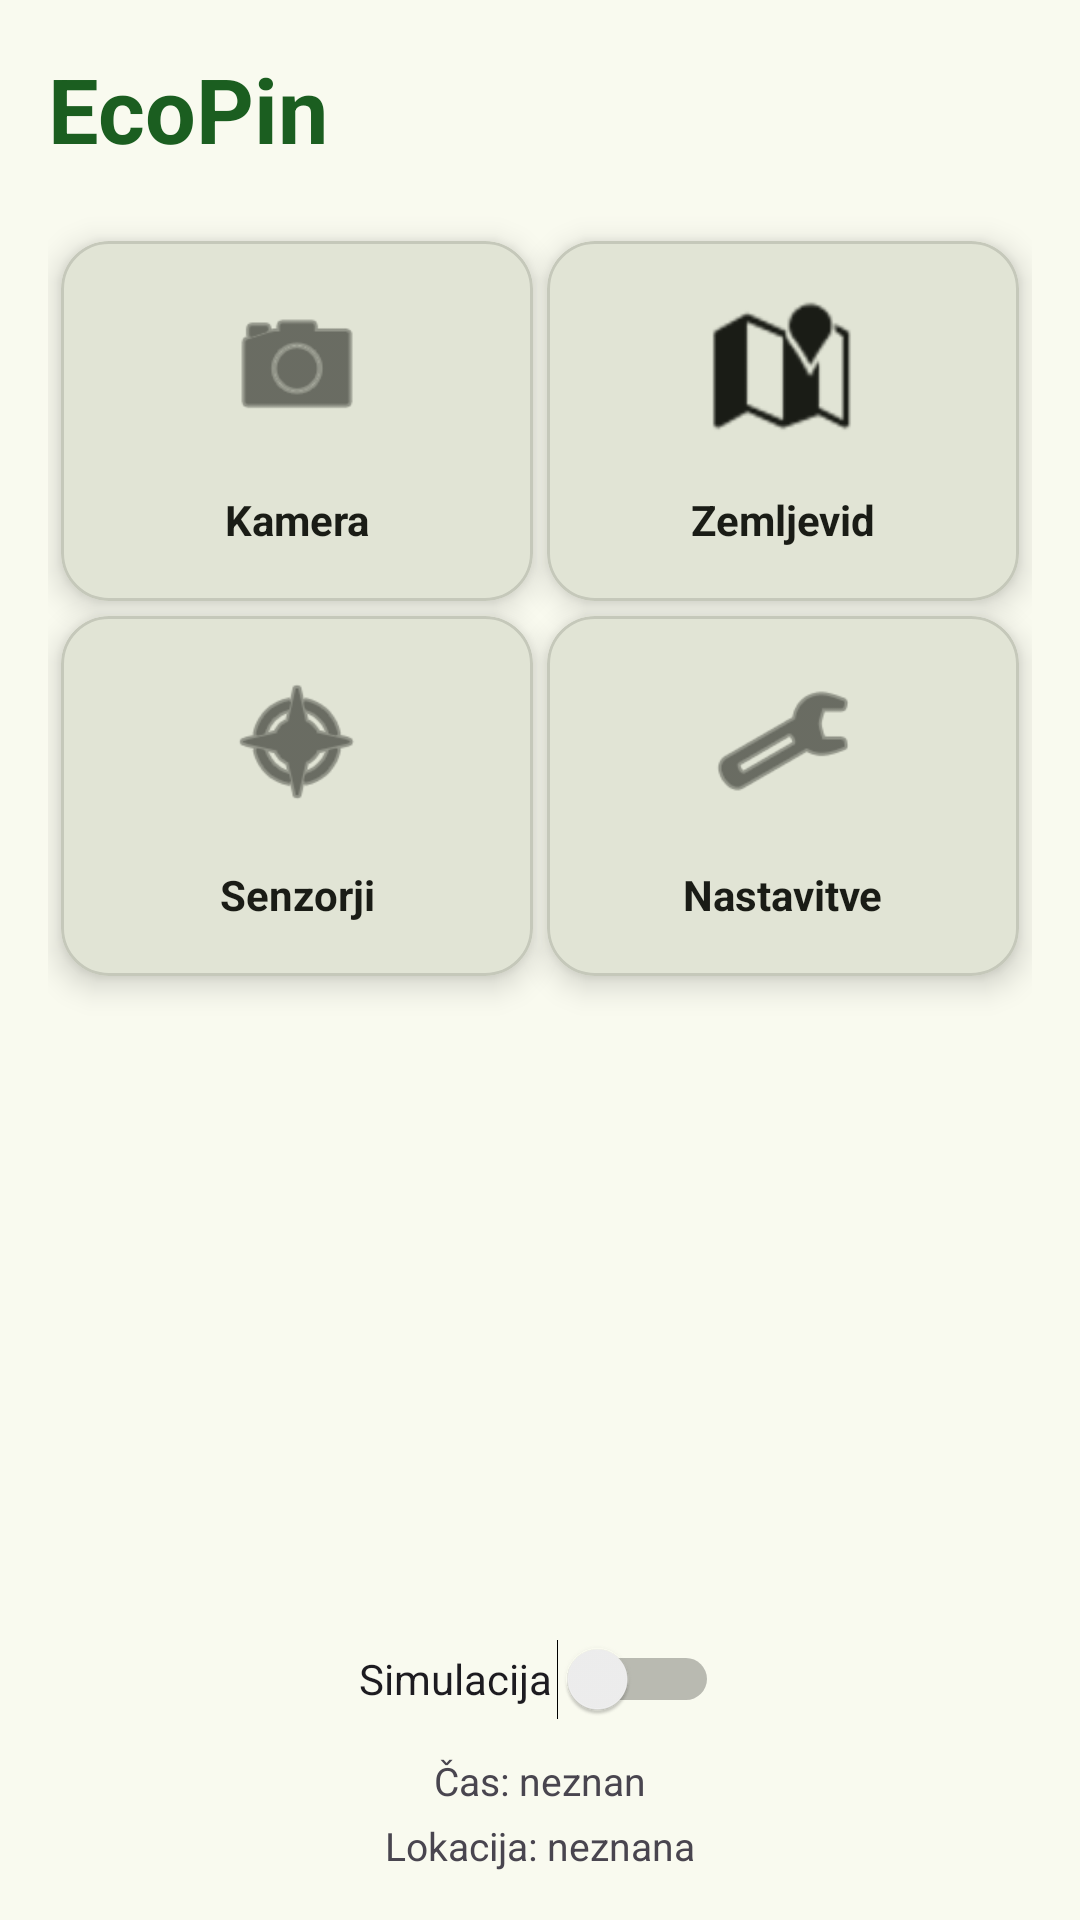

Icons on this 1080×1920 Android screen, each with its box as (x1, y1, x2, y2):
camera: (241, 319, 353, 408)
compass: (240, 685, 353, 798)
map: (713, 302, 851, 429)
preferences: (718, 691, 848, 791)
